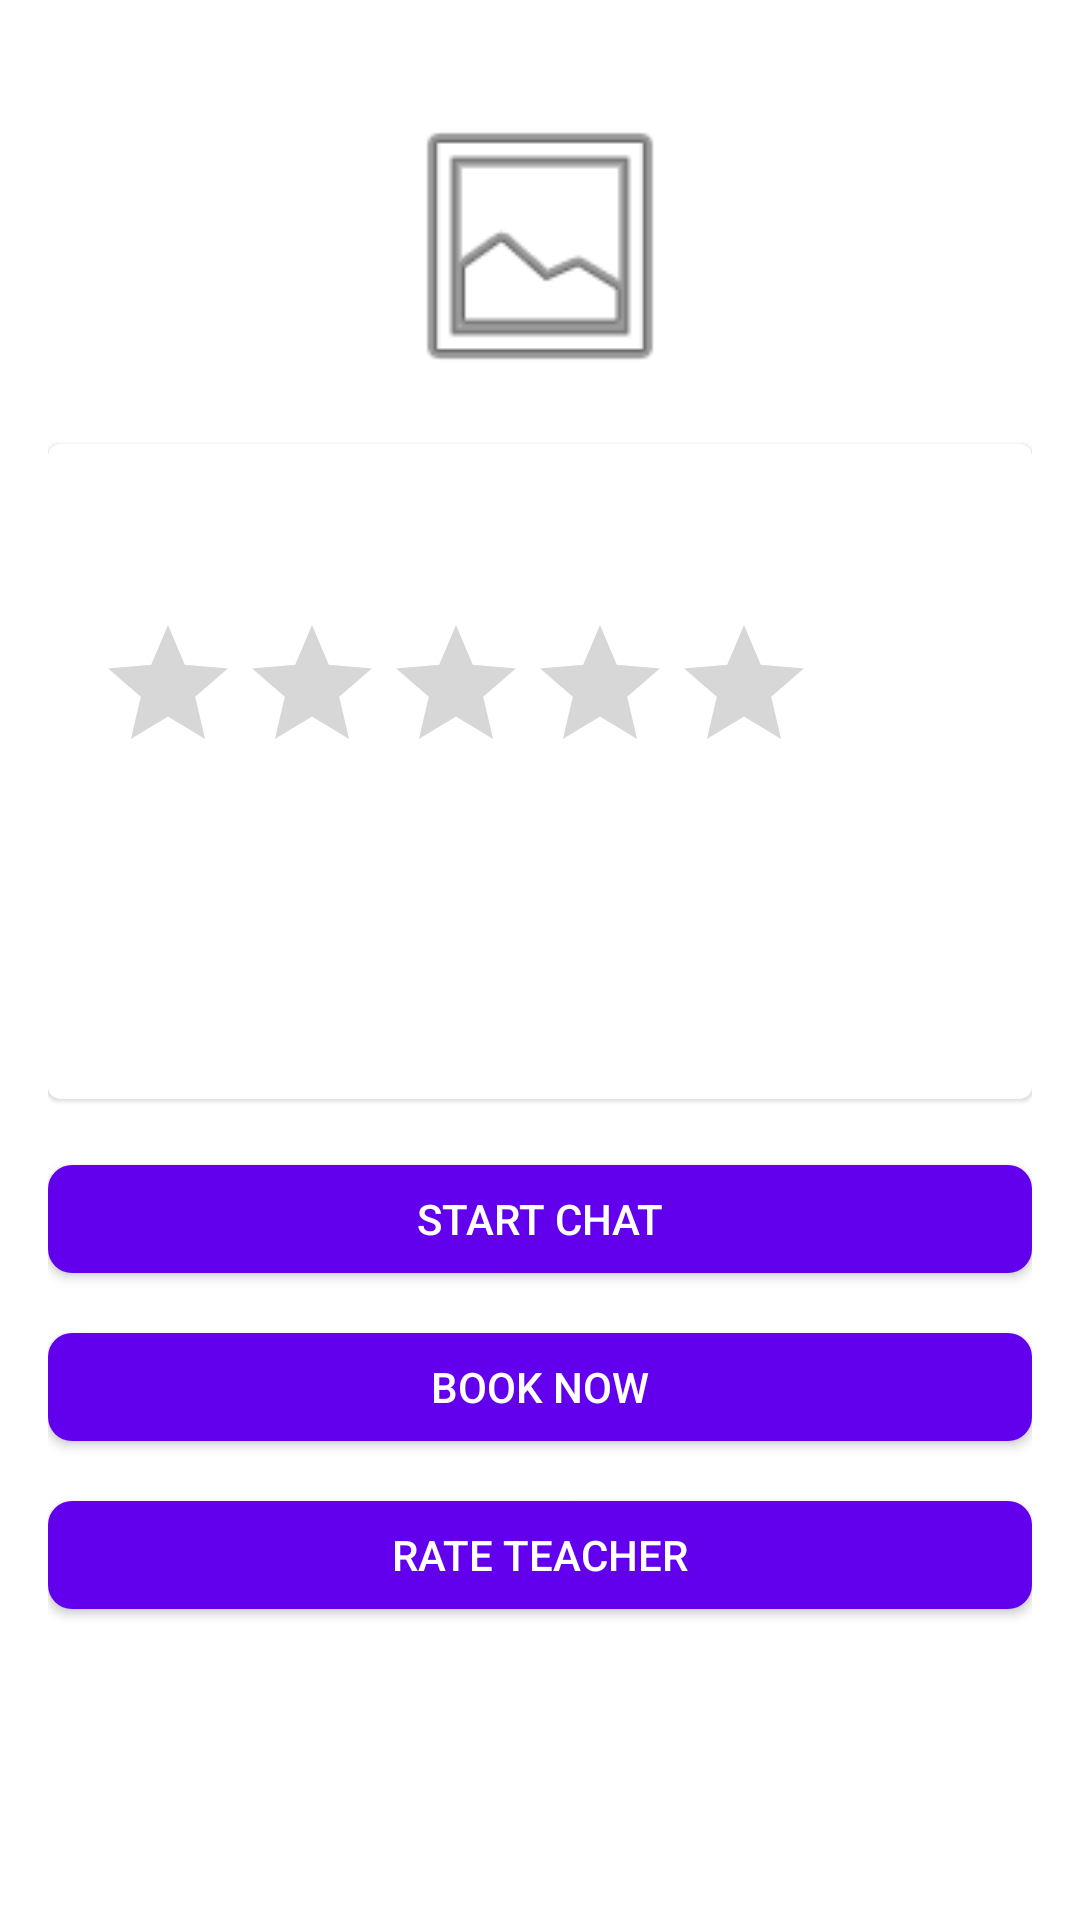

Icon bounding boxes for this 1080px x 1920px phone screenshot, format BBox(x1, y1, x2, y2):
gallery: BBox(427, 133, 653, 359)
